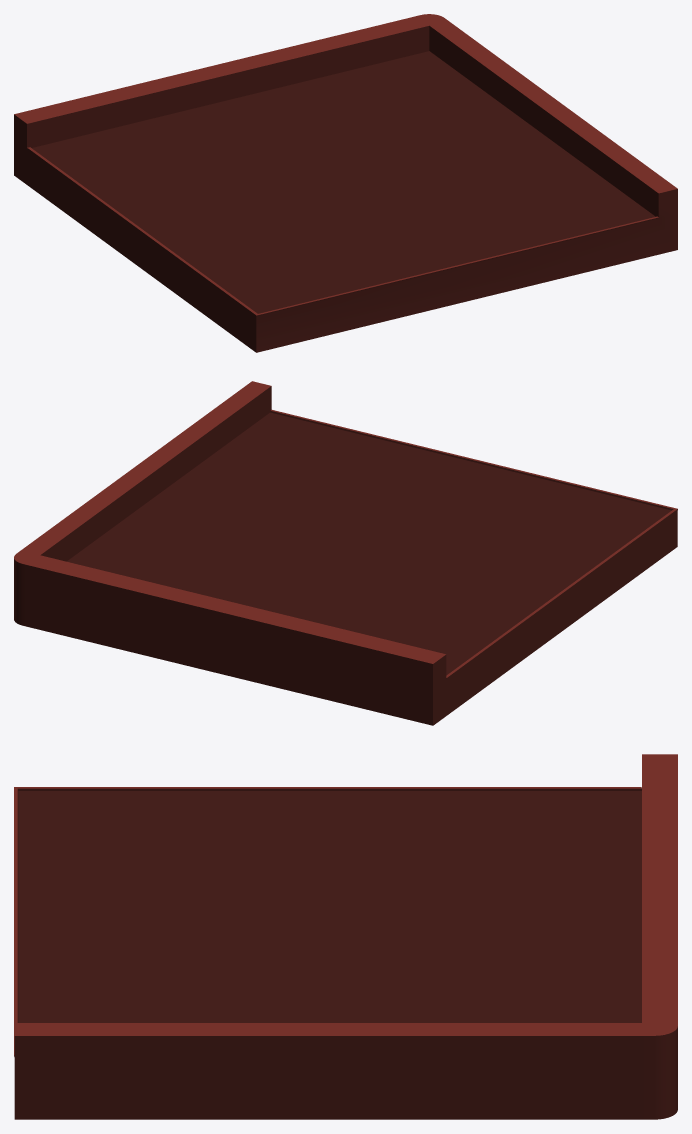
Rendered from Cupcake Tray Sort - Board 1.fbx.
The picture shows the model from 3 angles, top to bottom: view 1: azimuth 30°, elevation 25°; view 2: azimuth 150°, elevation 25°; view 3: azimuth 270°, elevation 25°; orthographic projection. The views are drawn at different scales.
Parts seen in each view (by area): view 1: board 1; view 2: board 1; view 3: board 1.
Part boxes in pixels (x1,y1,x2,y2): board 1: (14, 14, 677, 352); board 1: (14, 381, 677, 725); board 1: (14, 754, 677, 1119).
Size of the model in its own units: 0.1 by 0.0996 by 0.0139.
